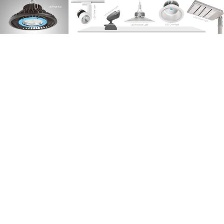light_bulb: (5, 2, 58, 33), (186, 0, 224, 24), (157, 3, 185, 26), (121, 9, 153, 28), (71, 5, 91, 28)
